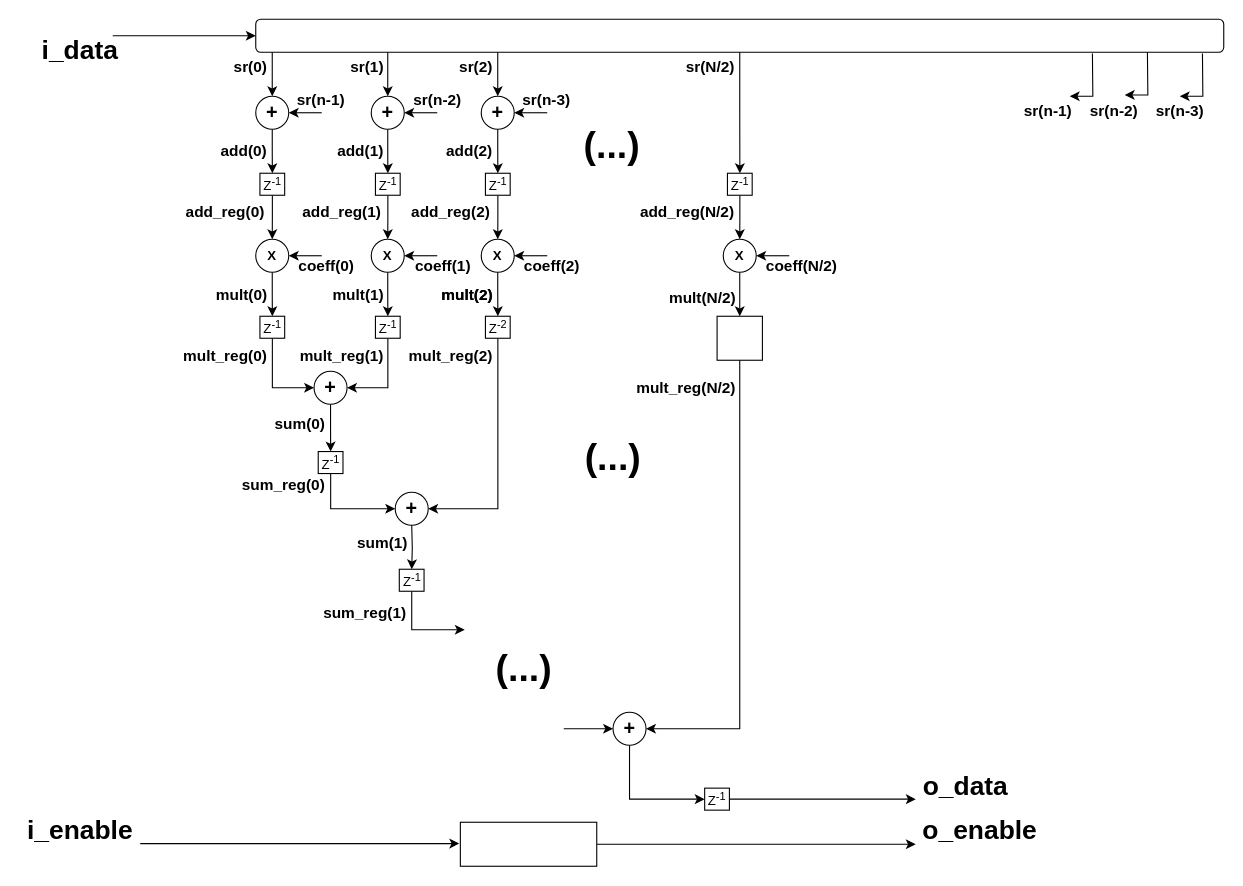
The diagram is 1243 pixels wide and 886 high, and some of its shapes have lost their labels. Here are the shapes that lost their labels. From the top down, the centre of each, then its label:
At (739,35): "SR (N length)".
At (739,337): "Z -(N-2)".
At (528,843): "Z - Latency".
